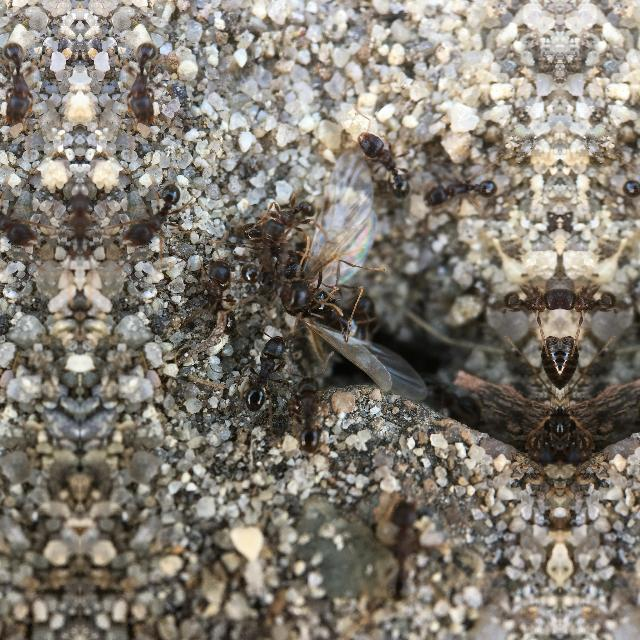Tetramorium: (372, 489, 442, 605), (232, 324, 298, 406), (354, 124, 420, 202), (188, 248, 246, 336), (412, 163, 501, 217), (127, 31, 169, 131), (138, 175, 198, 242), (239, 220, 303, 276), (292, 370, 334, 452), (0, 31, 32, 131), (265, 187, 319, 241), (497, 266, 559, 312), (561, 266, 623, 312), (0, 174, 20, 241), (618, 163, 640, 217)
